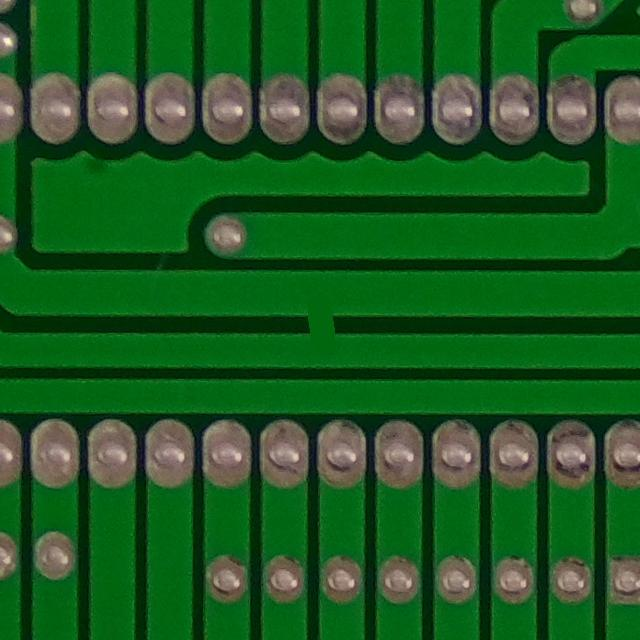short: (259, 262, 381, 378)
